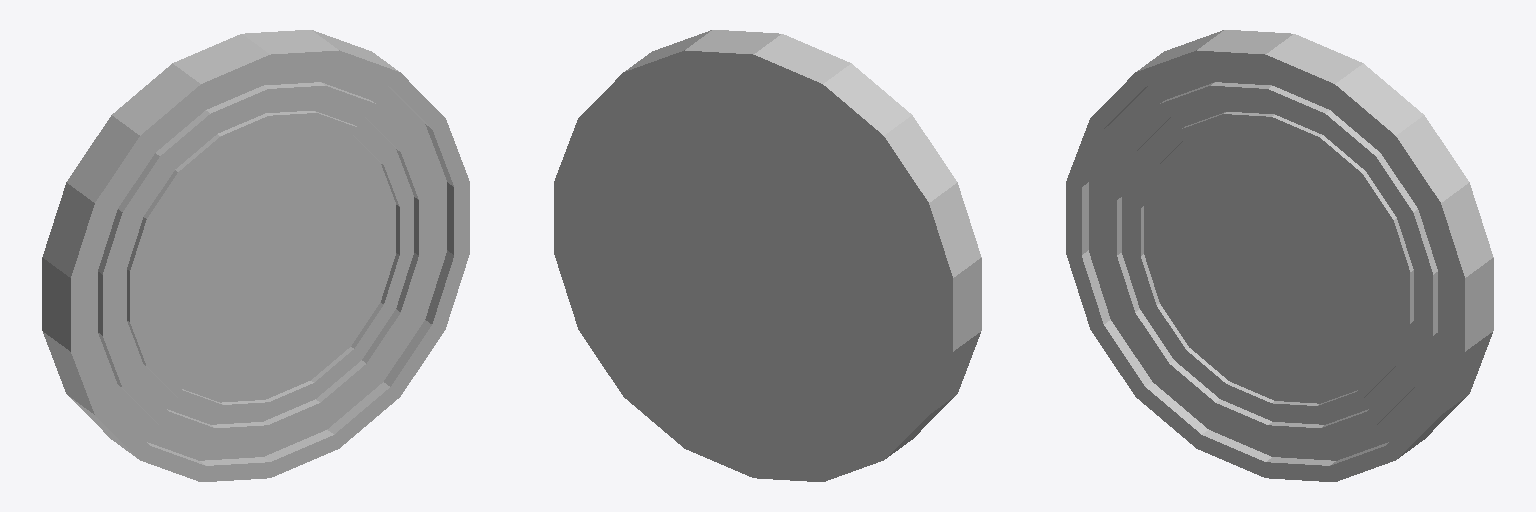
Rendered from checker.obj.
3 renders of one model, left to right at view 1: azimuth 30°, elevation 25°; view 2: azimuth 150°, elevation 25°; view 3: azimuth 330°, elevation 25°, orthographic.
Visible parts, largest first — view 1: Object.1, Object.2, Object.3, Object.4; view 2: Object.1, Object.2, Object.3, Object.4; view 3: Object.1, Object.2, Object.3, Object.4.
Part boxes in pixels (x1,y1,x2,y2): Object.1: (86, 67, 446, 460); Object.2: (42, 30, 469, 481); Object.3: (98, 82, 432, 443); Object.4: (127, 111, 407, 412); Object.1: (559, 58, 944, 468); Object.2: (554, 30, 981, 481); Object.3: (588, 87, 918, 445); Object.4: (613, 116, 889, 415); Object.1: (1089, 67, 1449, 460); Object.2: (1066, 30, 1493, 481); Object.3: (1103, 82, 1437, 443); Object.4: (1133, 112, 1413, 414).
Size of the model in its own units: 70.05 by 71.13 by 8.68.